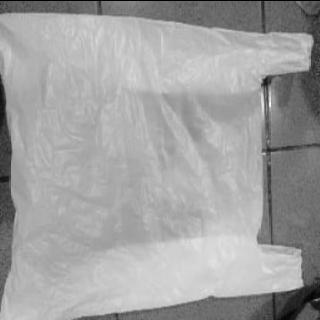objects: (0, 17, 315, 316)
